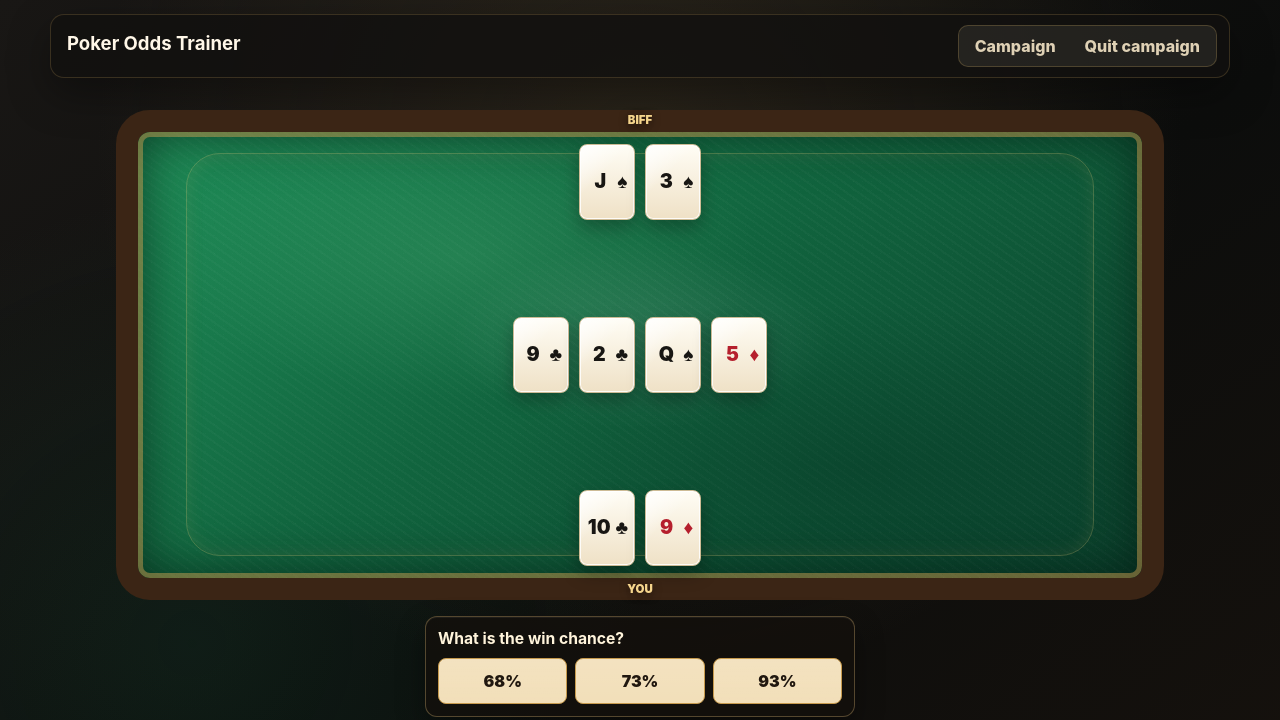
Test: App › campaign button returns active players from a shared odds URL to the campaign start page
Click the button "Campaign": [1015, 46] box x1=962 y1=29 x2=1068 y2=63
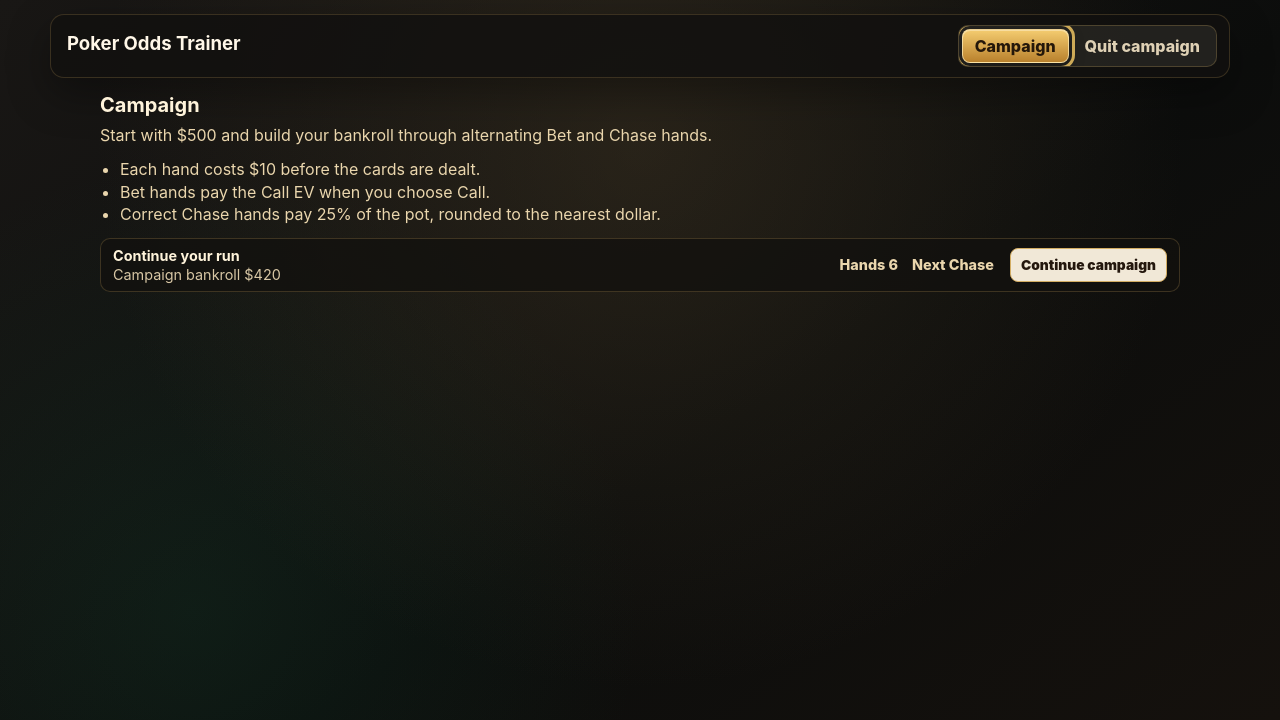
Now the heading "Campaign" is shown, box x1=100 y1=93 x2=200 y2=117
Now the element named "Campaign progress" shows "Campaign bankroll $420", box x1=100 y1=238 x2=1180 y2=292
Now the button "Continue campaign" is shown, box x1=1010 y1=248 x2=1167 y2=282
